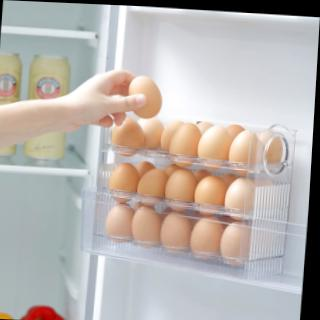Egg: (122, 73, 174, 122), (226, 124, 264, 168), (160, 163, 198, 207), (187, 214, 225, 258), (109, 112, 147, 155), (129, 111, 167, 154), (165, 118, 203, 161), (195, 123, 233, 166), (132, 158, 169, 202), (188, 171, 225, 215), (98, 198, 135, 242), (193, 221, 230, 265), (103, 156, 140, 199), (221, 175, 258, 218), (124, 204, 161, 247), (153, 208, 190, 251)
